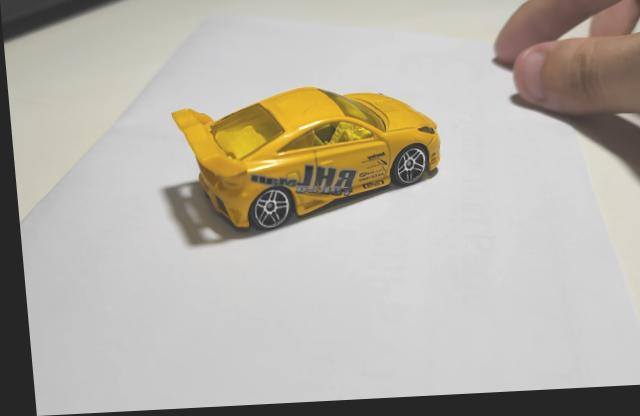07_RHLTURBO: (169, 90, 438, 237)
